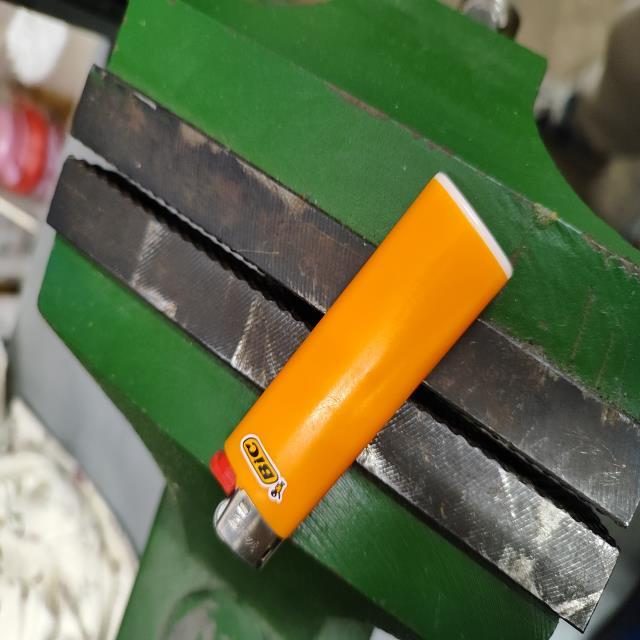lighter: (212, 174, 511, 558)
